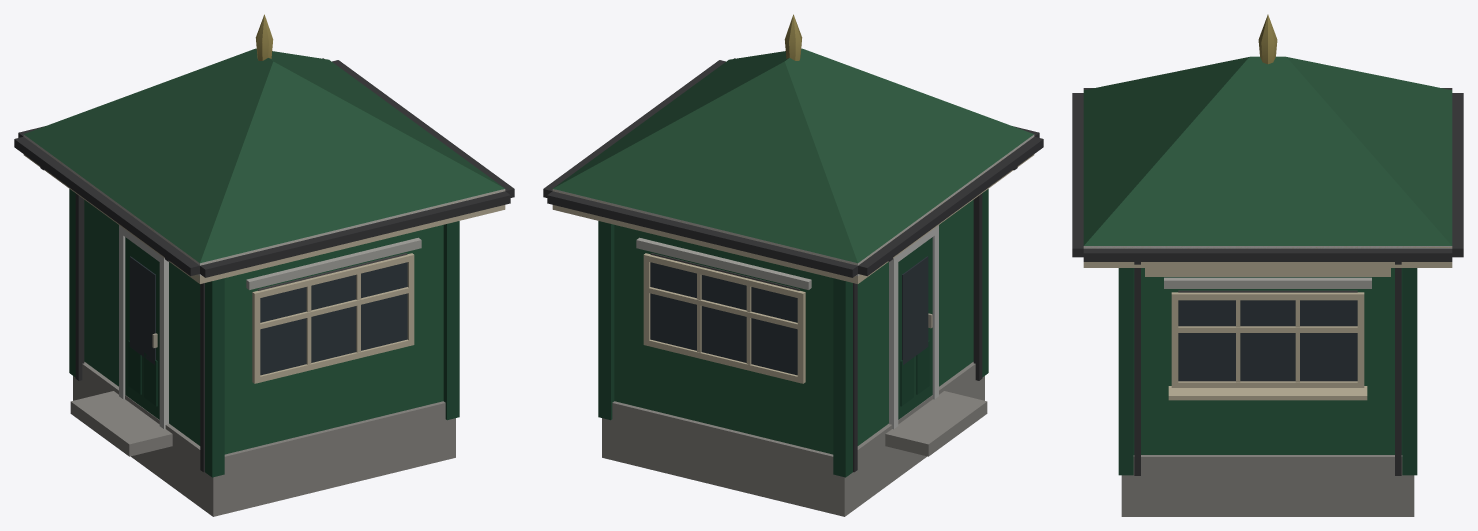
Rendered from SM_Prop_cafe_building_1.glb.
3 views of the same model, side by side, from view 1: azimuth 30°, elevation 25°; view 2: azimuth 150°, elevation 25°; view 3: azimuth 270°, elevation 25° (orthographic). The views are drawn at different scales.
Parts seen in each view (by area): view 1: SM_Prop_cafe_building_1; view 2: SM_Prop_cafe_building_1; view 3: SM_Prop_cafe_building_1.
Part boxes in pixels (box(x1,y1,x2,y2)): SM_Prop_cafe_building_1: box(14, 14, 514, 516); SM_Prop_cafe_building_1: box(543, 14, 1043, 516); SM_Prop_cafe_building_1: box(1072, 14, 1463, 516).
Size of the model in its own units: 4.17 by 5.15 by 4.14.
